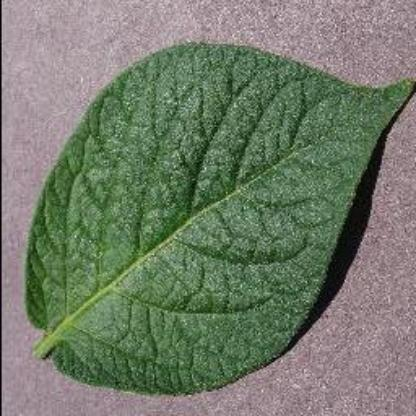Healthy-plant: (40, 21, 396, 387)
